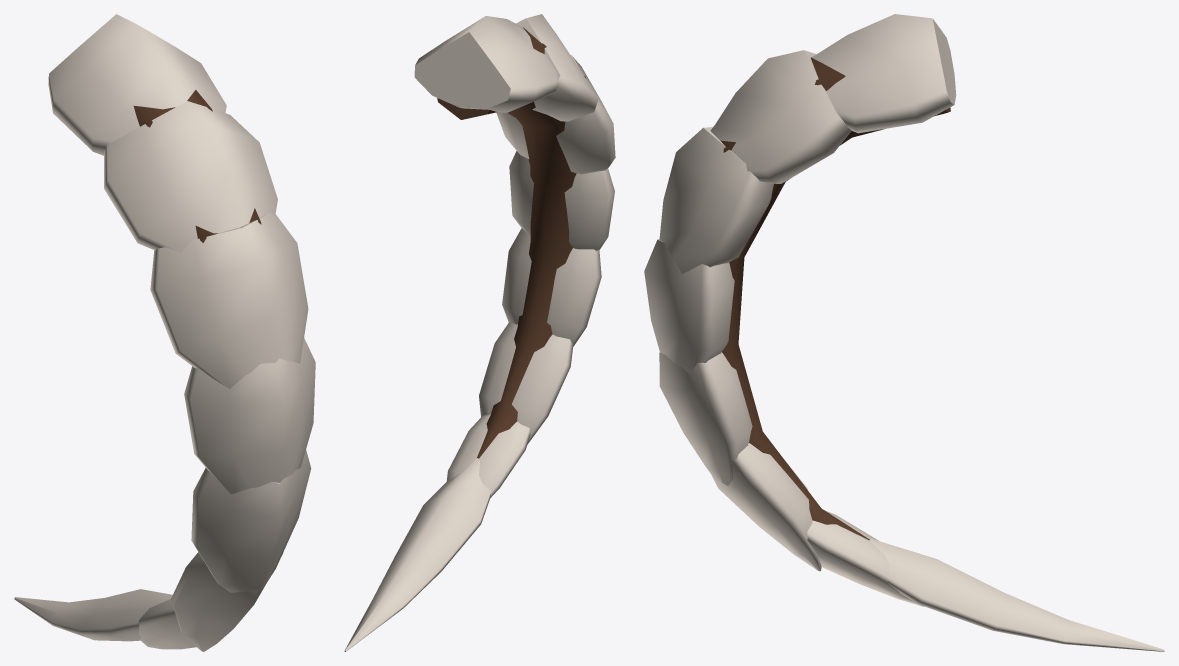
File: flying_beetle_tail.glb
3 views of the same model, side by side, from view 1: azimuth 30°, elevation 25°; view 2: azimuth 150°, elevation 25°; view 3: azimuth 270°, elevation 25° (orthographic). The views are drawn at different scales.
Visible parts, largest first — view 1: flying_beetle_tail; view 2: flying_beetle_tail; view 3: flying_beetle_tail.
Part boxes in pixels (x1=…): flying_beetle_tail: x1=14, y1=14, x2=315, y2=651; flying_beetle_tail: x1=344, y1=14, x2=615, y2=651; flying_beetle_tail: x1=644, y1=14, x2=1164, y2=651.
Size of the model in its own units: 0.3019 by 1.31 by 0.9899.
